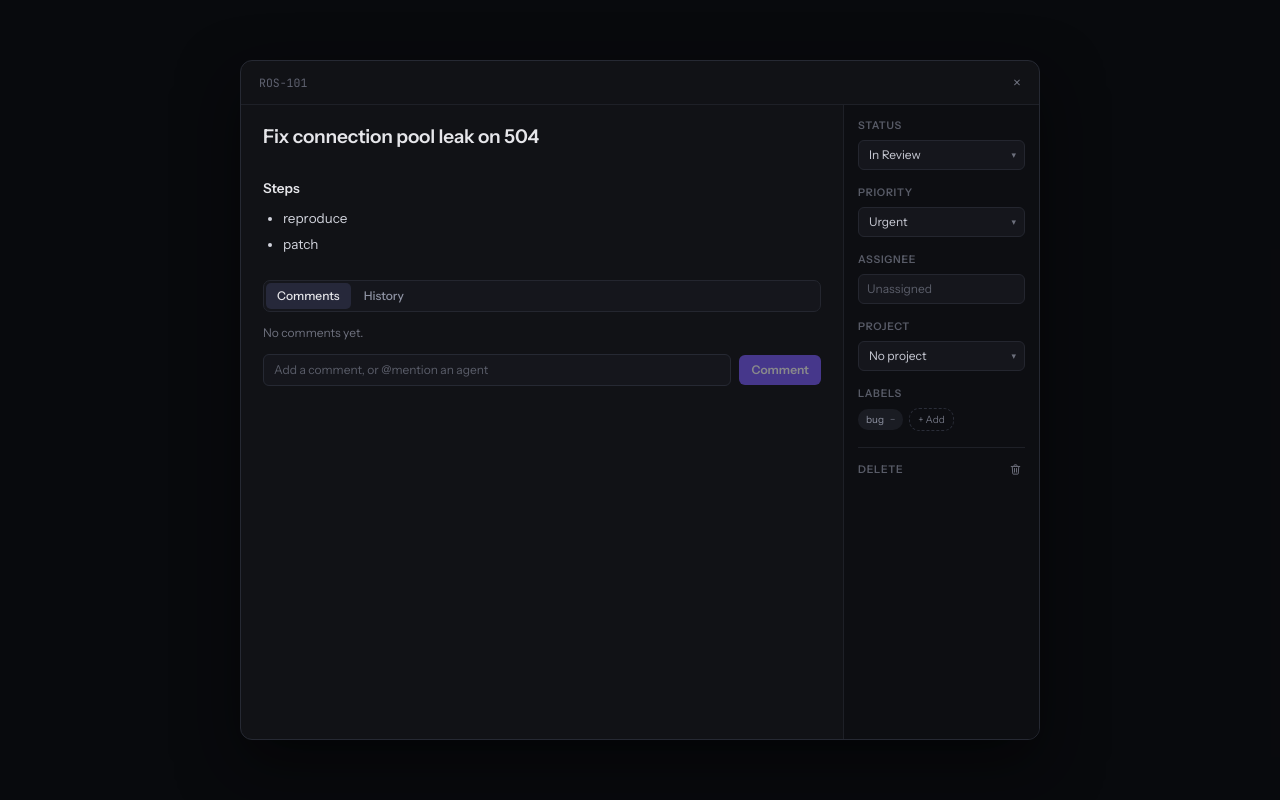
Test: TaskDetailModal — Comments and History › says so when a tab is empty
This screenshot has width=1280, height=800.
Check: the text "No comments yet." is shown, box [263,325,363,340]
Click the tab "History": (384, 296) [353,283,415,309]
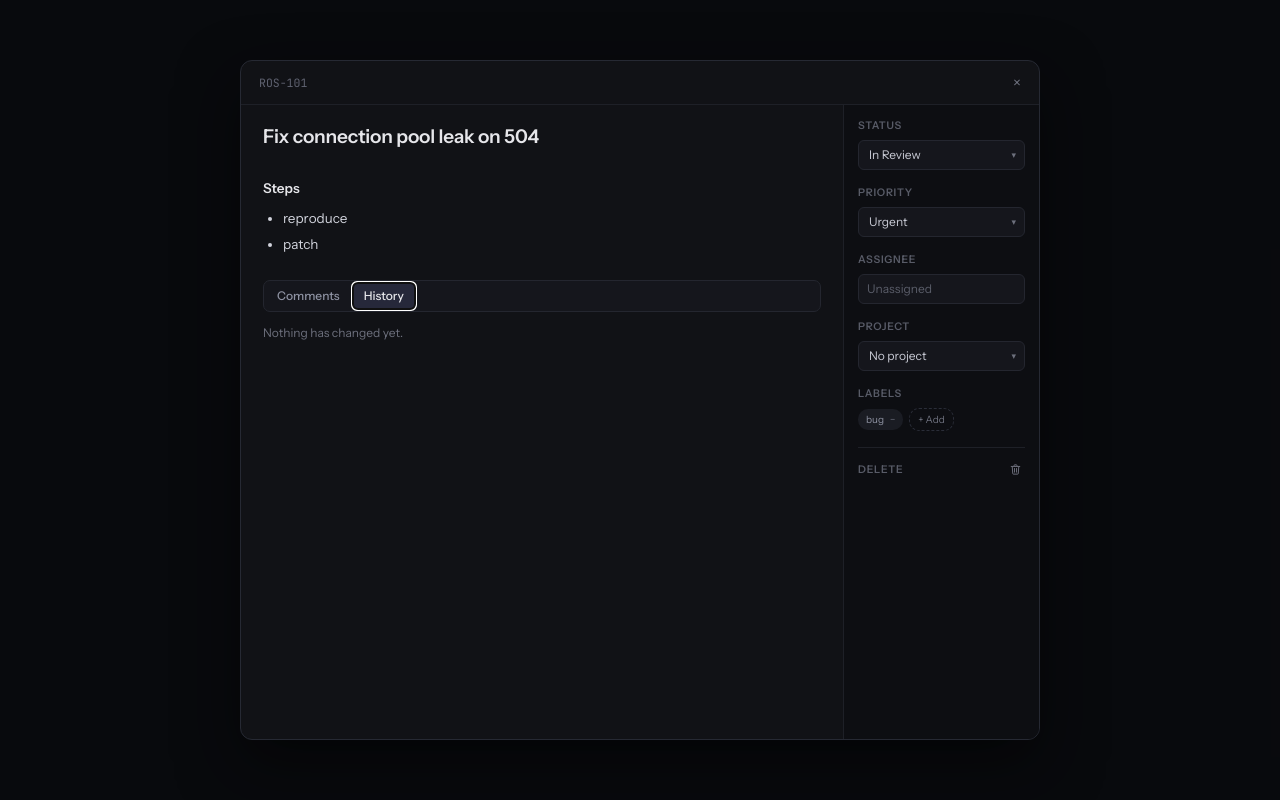
Check: the text "Nothing has changed yet." is shown, box [263,325,403,340]
